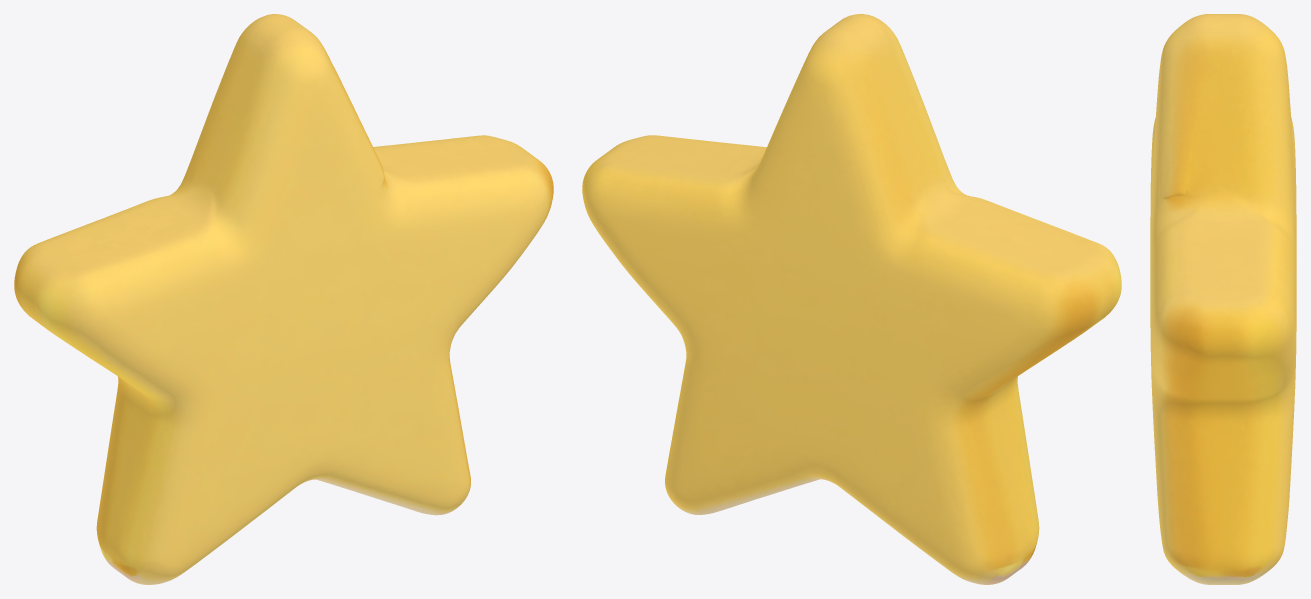
File: Stella.glb
3 renders of one model, left to right at view 1: azimuth 30°, elevation 25°; view 2: azimuth 150°, elevation 25°; view 3: azimuth 270°, elevation 25°, orthographic. The views are drawn at different scales.
Size of the model in its own units: 1.9 by 1.84 by 0.4895.
Materials: 1 (1 with a texture image).
